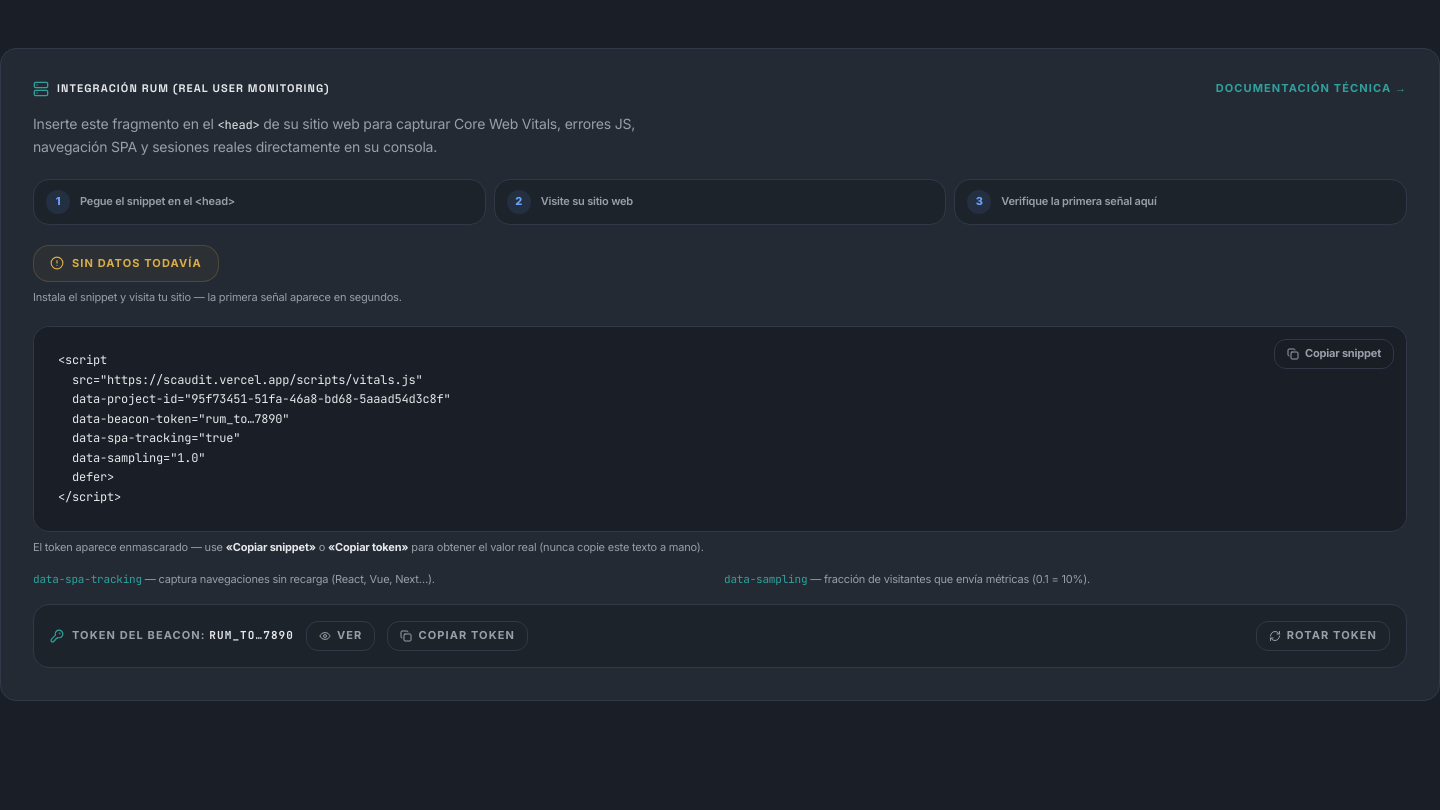
Scenario: RumIntegrationCard › tras rotar: el NUEVO secreto NUNCA queda expuesto (vuelve a enmascarado)
// Reveal explícito ANTES de rotar…
Click the button with aria-label "Ver token" at (341, 636), box [306,621,375,651]
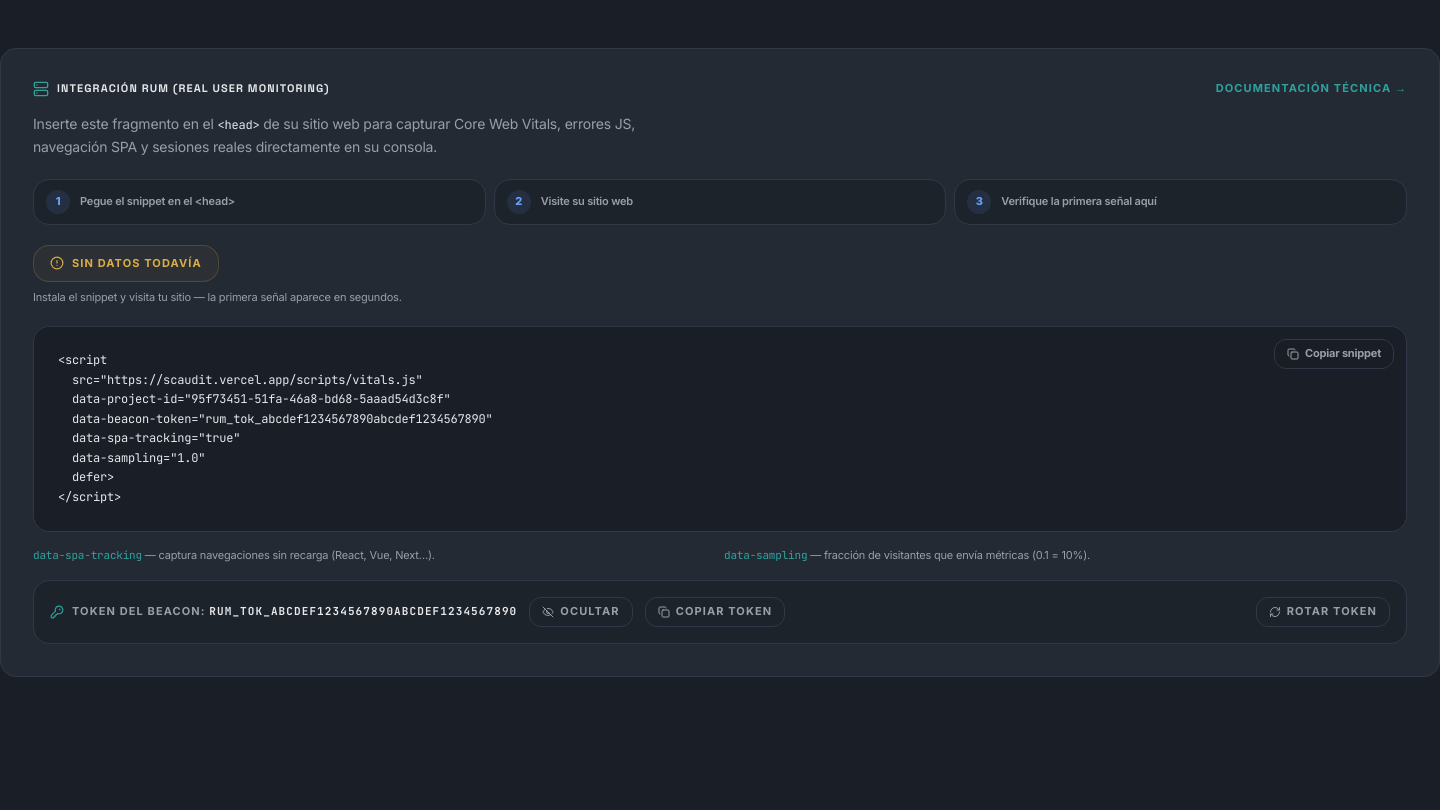
Result: the text "rum_tok_abcdef1234567890abcdef1234567890" is shown at [209,604,517,618]
// …y al rotar el nuevo token NO aparece en claro:
Click the button "Rotar token" at (1323, 612), box [1256,597,1390,627]
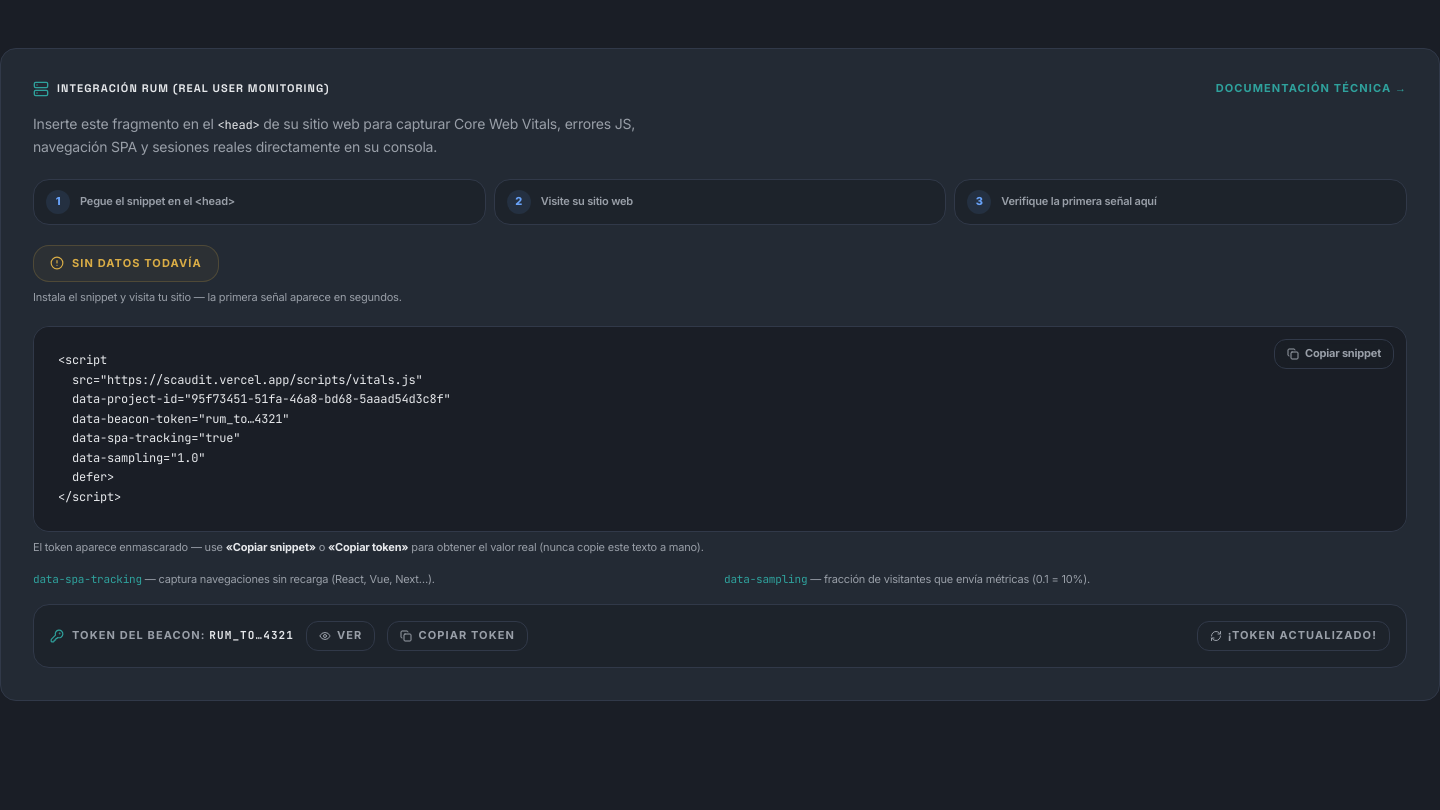
Result: the button "¡Token actualizado!" is shown at [1197,621,1390,651]
